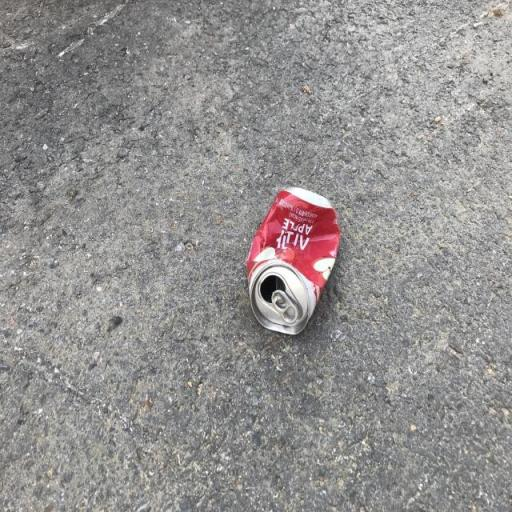metal: (238, 164, 345, 366)
